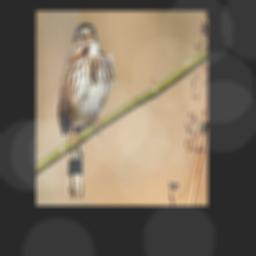Sparrow: (58, 22, 117, 200)
